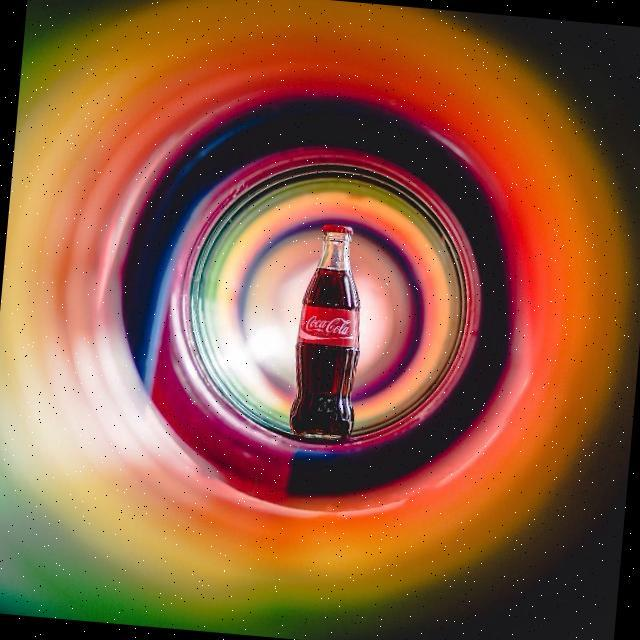coca-cola: (285, 219, 371, 445)
